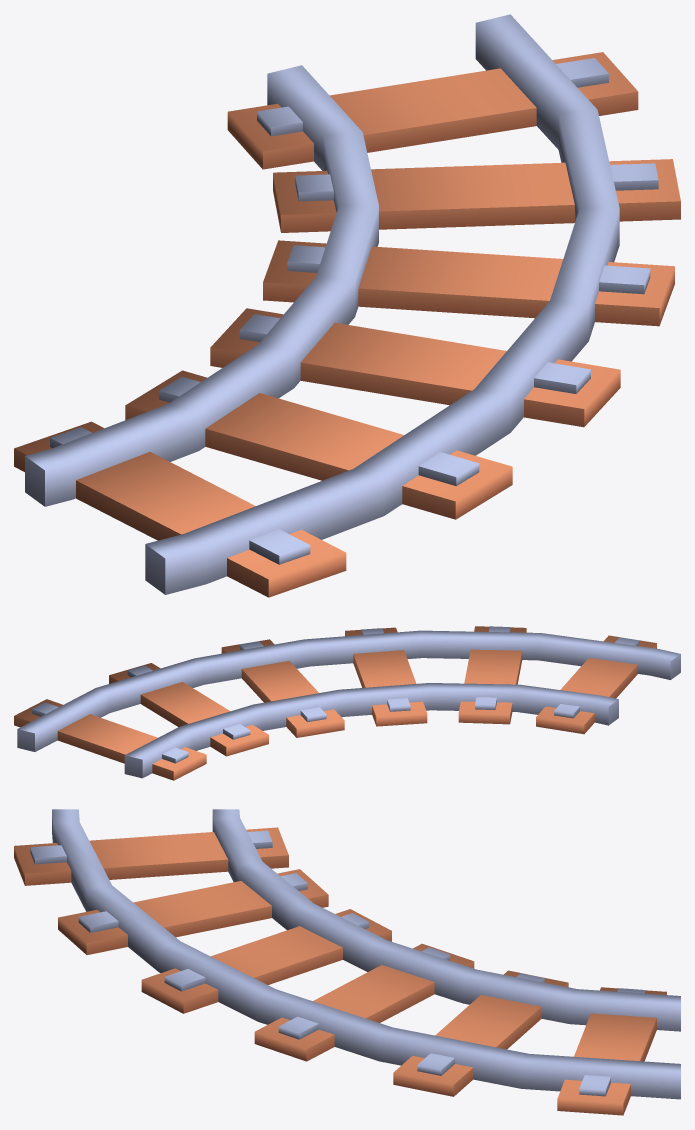
The model's file is kenney-train-railroad-corner-small.glb.
3 views of the same model, one above another, from view 1: azimuth 30°, elevation 25°; view 2: azimuth 150°, elevation 25°; view 3: azimuth 270°, elevation 25° (orthographic). The views are drawn at different scales.
Parts seen in each view (by area): view 1: railroad-corner-small; view 2: railroad-corner-small; view 3: railroad-corner-small.
Boxes of the visible parts, x1,y1,x2,y2 form: railroad-corner-small: (14, 14, 680, 597); railroad-corner-small: (14, 626, 680, 780); railroad-corner-small: (14, 809, 680, 1115).
Size of the model in its own units: 2.49 by 0.1001 by 2.49.
1 material, 1 textured.
